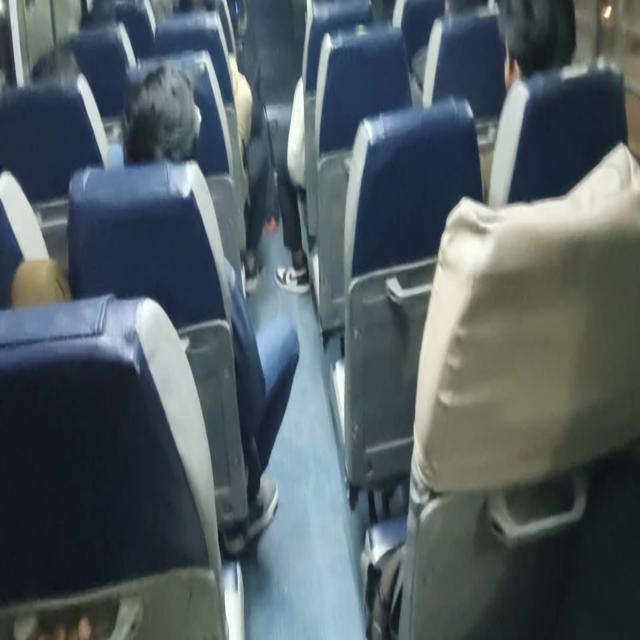person: (120, 61, 300, 554), (273, 0, 373, 295), (485, 0, 578, 206), (121, 62, 202, 165), (497, 0, 577, 94)
